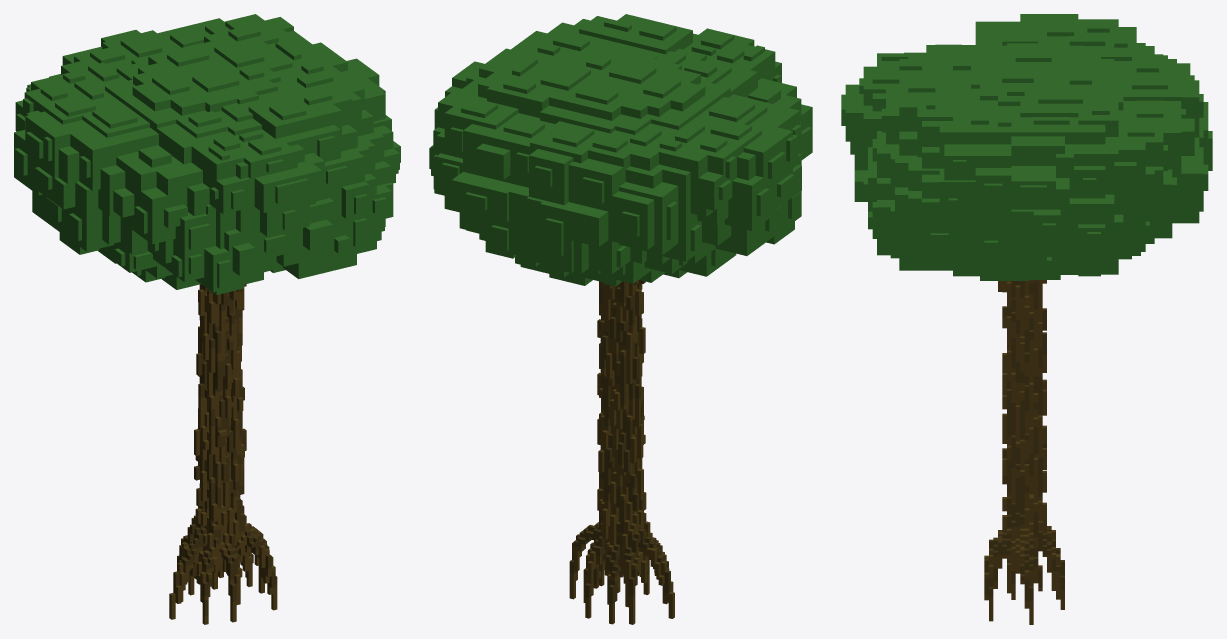
Rendered from Tree_Oak_L1.obj.
3 views of the same model, side by side, from view 1: azimuth 30°, elevation 25°; view 2: azimuth 150°, elevation 25°; view 3: azimuth 270°, elevation 25° (orthographic).
Parts seen in each view (by area): view 1: Tree_Oak_L1; view 2: Tree_Oak_L1; view 3: Tree_Oak_L1.
Boxes of the visible parts, x1,y1,x2,y2 form: Tree_Oak_L1: [14, 14, 400, 624]; Tree_Oak_L1: [429, 14, 812, 624]; Tree_Oak_L1: [841, 14, 1212, 624].
Size of the model in its own units: 8.7 by 13 by 8.3.
Materials: 1 (1 with a texture image).
